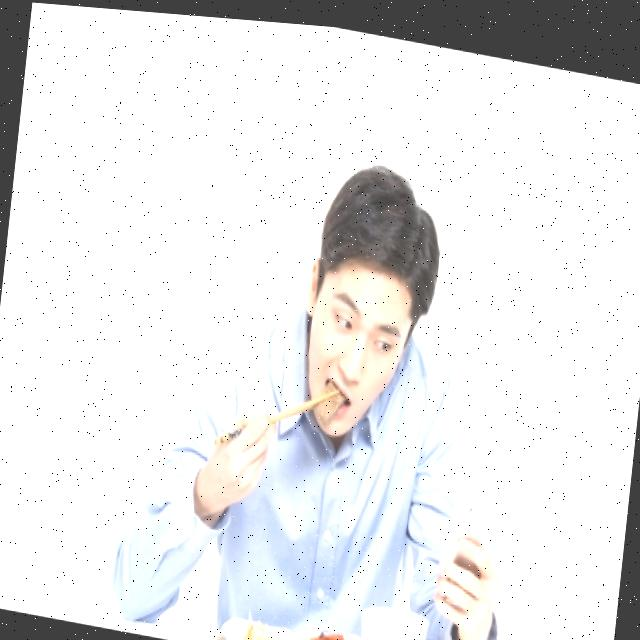eating-person: (95, 98, 546, 640)
